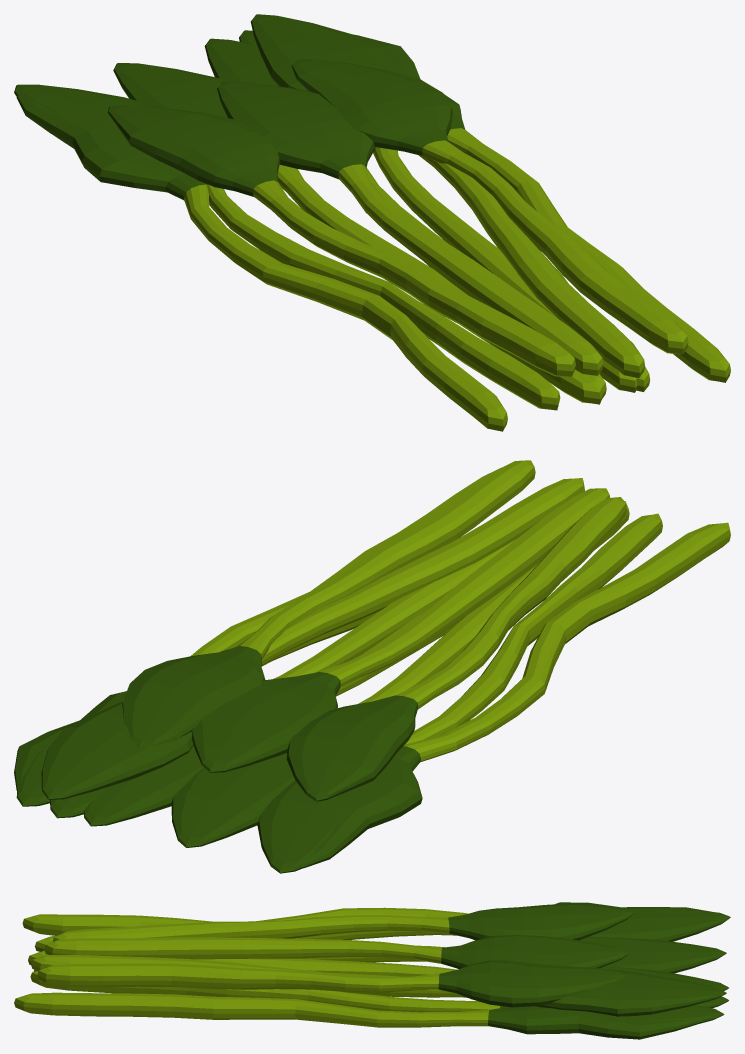
File: Kangkong.fbx
3 renders of one model, top to bottom at view 1: azimuth 30°, elevation 25°; view 2: azimuth 150°, elevation 25°; view 3: azimuth 270°, elevation 25°, orthographic. The views are drawn at different scales.
Parts seen in each view (by area): view 1: Kangkong; view 2: Kangkong; view 3: Kangkong.
Boxes of the visible parts, left/top/right/bottom form: Kangkong: left=14, top=14, right=730, bottom=431; Kangkong: left=14, top=460, right=730, bottom=873; Kangkong: left=14, top=902, right=730, bottom=1039.
Size of the model in its own units: 27.69 by 3.66 by 64.13.
